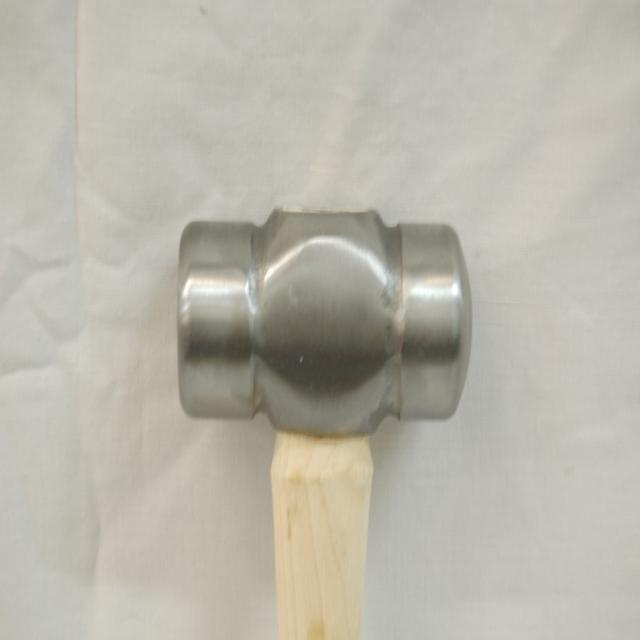hammer: (165, 195, 482, 640)
